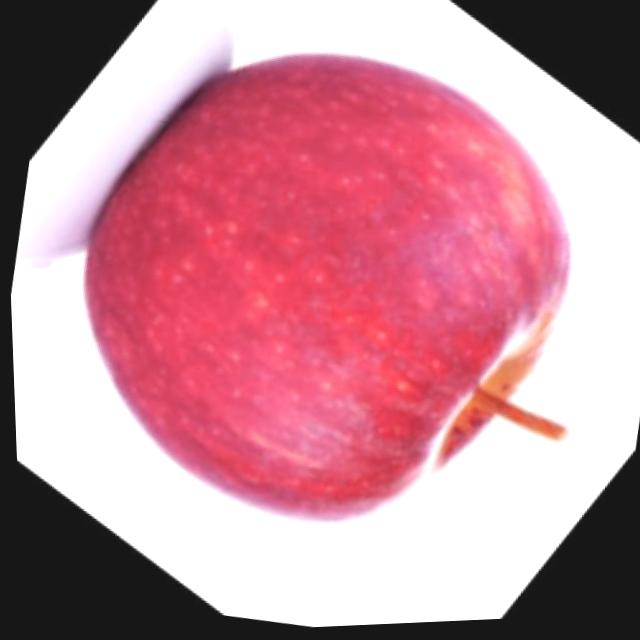Apple: (35, 9, 628, 577)
